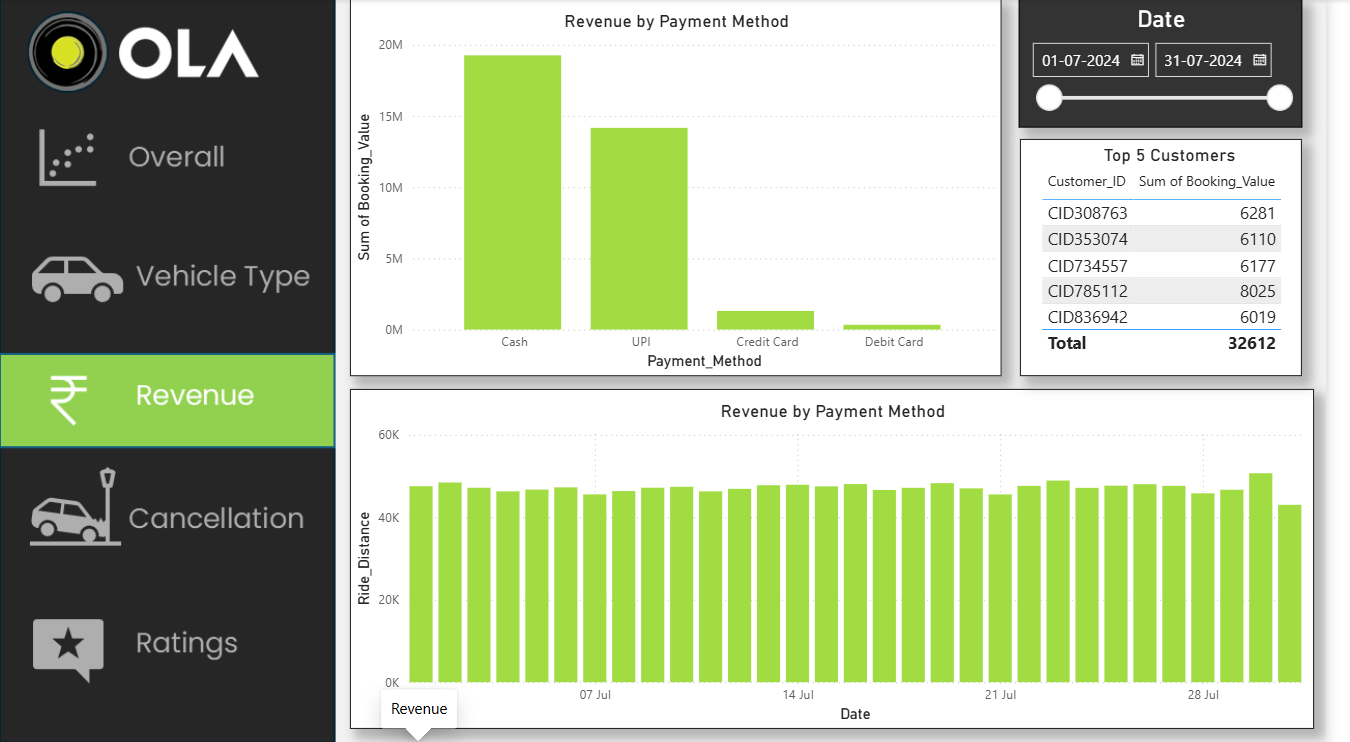

What the dashboard file says about the page in this screenshot:
{"tool":"powerbi","page":{"name":"Revenue","canvas":[1280,720],"ordinal":2},"visuals":[{"type":"actionButton","box":[0,447.8,324.4,92.2],"z":0},{"type":"actionButton","box":[0,107.5,325,92.5],"z":1000},{"type":"actionButton","box":[0,220,324.4,92.2],"z":2000},{"type":"actionButton","box":[0,445,325,92.5],"z":3000},{"type":"actionButton","box":[0,580,325,92.5],"z":4000},{"type":"columnChart","title":"Revenue by Payment Method","fields":{"Y":["Sum(July.Booking_Value)"],"Category":["July.Payment_Method"]},"box":[337.5,0,629.2,363.9],"z":5000},{"type":"columnChart","title":"Revenue by Payment Method","fields":{"Y":["Sum(July.Ride_Distance)"],"Category":["July.Date"]},"box":[337.5,376.4,930.6,327.8],"z":6000},{"type":"slicer","title":"Date","fields":{"Values":["July.Date"]},"box":[983.3,0,273.6,123.6],"z":7000},{"type":"tableEx","title":"Top 5 Customers","fields":{"Values":["July.Customer_ID","Sum(July.Booking_Value)"]},"box":[984.7,134.7,272.2,229.2],"z":8000}]}

Visuals, with their boxes in screenshot pixels (x1, y1, x2, y2), scaled from the page's 1280x720 canvas onto the 1350x742 screenshot:
actionButton: 0 461 342 556
actionButton: 0 111 343 206
actionButton: 0 227 342 322
actionButton: 0 459 343 554
actionButton: 0 598 343 693
"Revenue by Payment Method" columnChart: 356 0 1020 375
"Revenue by Payment Method" columnChart: 356 388 1337 726
"Date" slicer: 1037 0 1326 127
"Top 5 Customers" tableEx: 1039 139 1326 375
